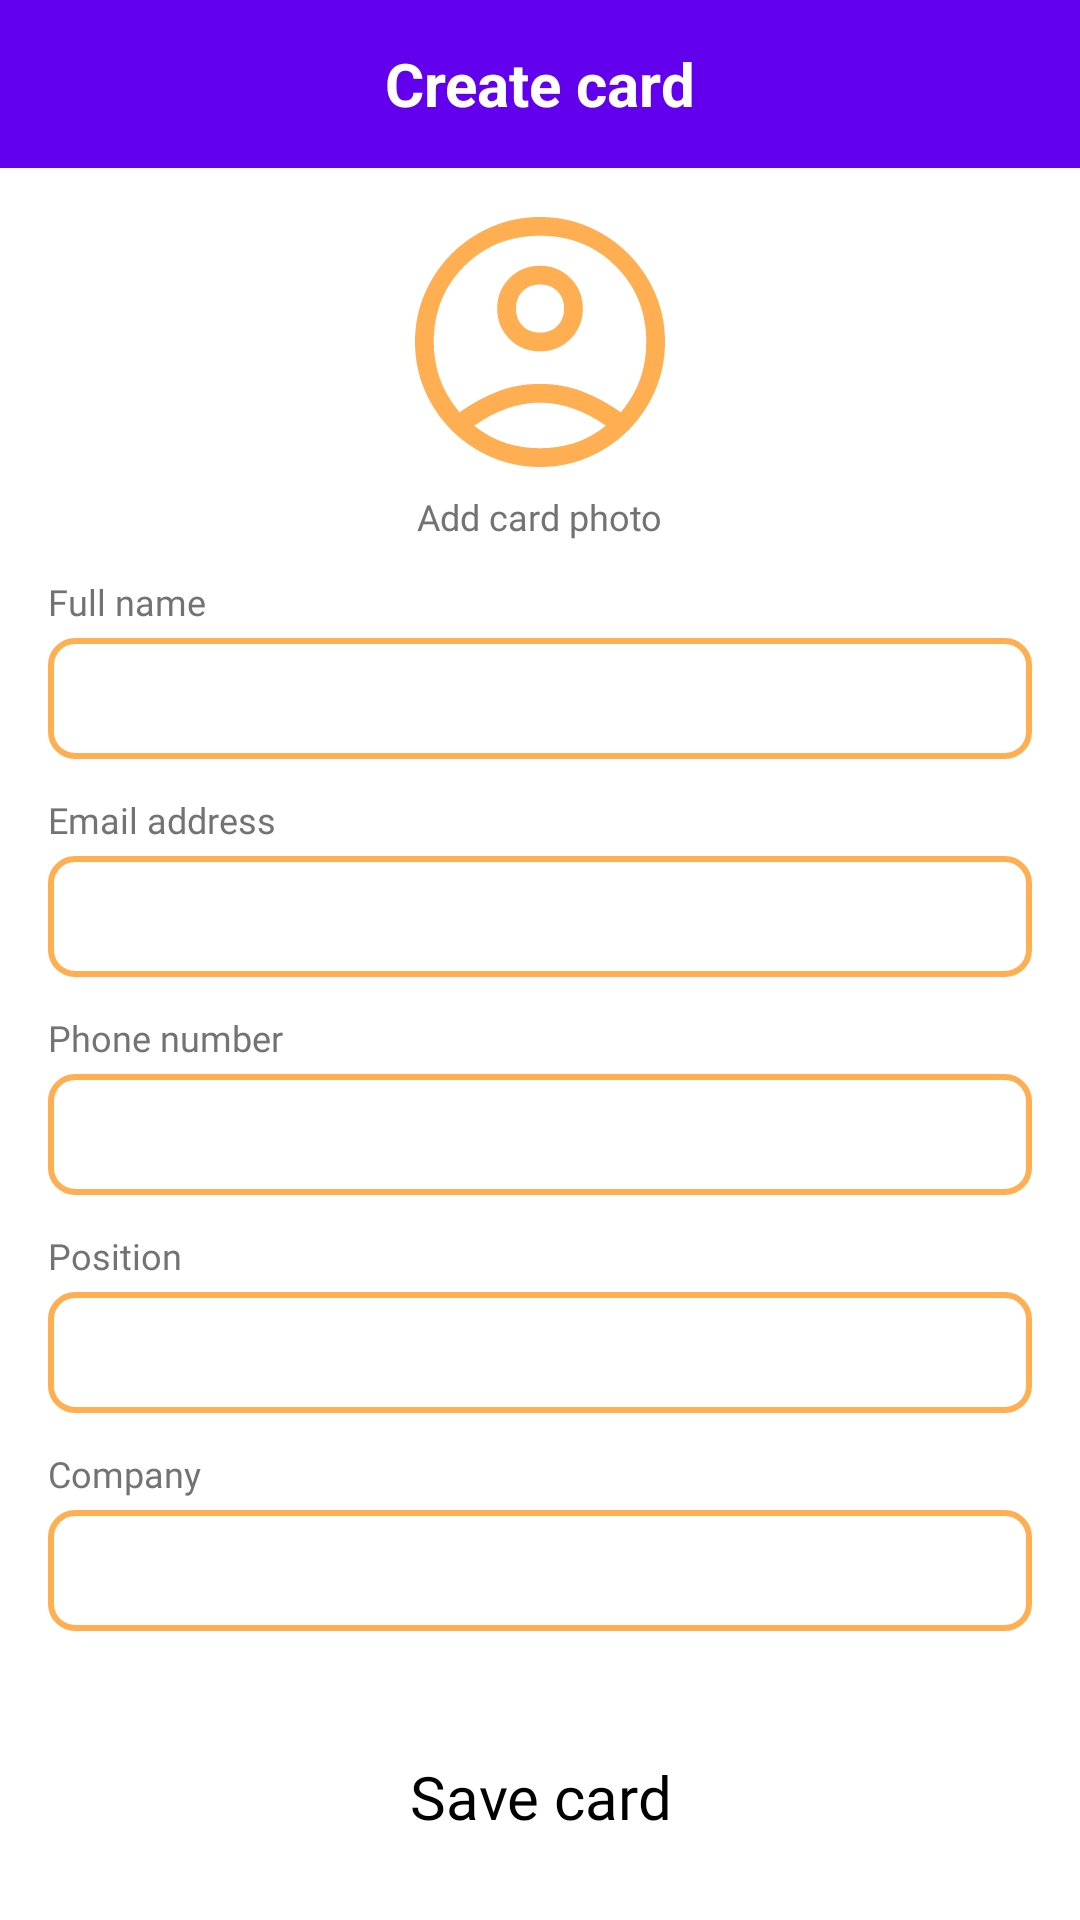

Where icons sit on this 1080px×1920px app screen, as (x1, y1, x2, y2):
account circle: (415, 217, 665, 467)
